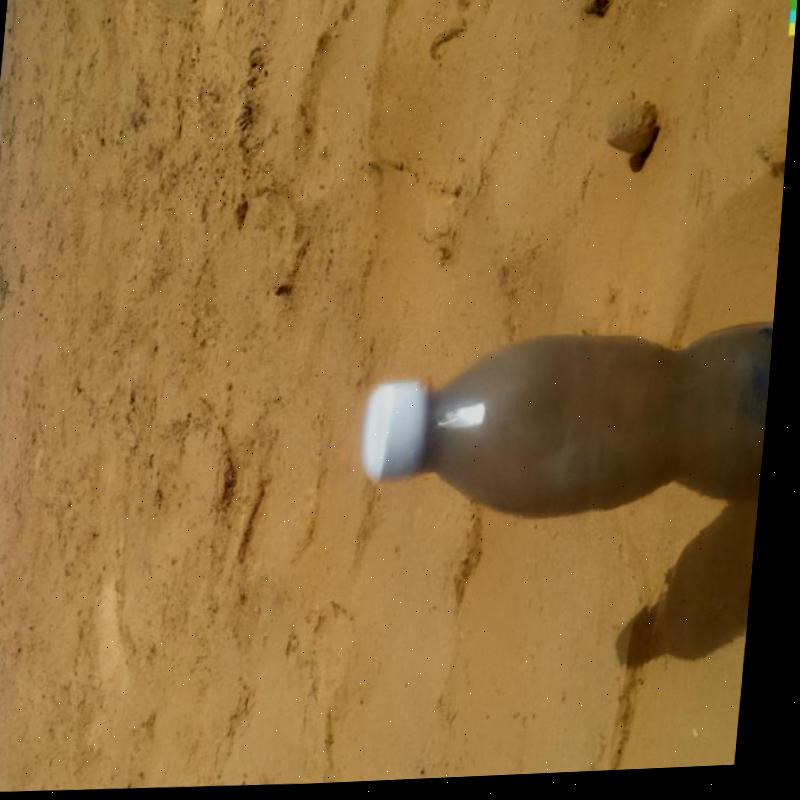botella: (359, 320, 780, 533)
